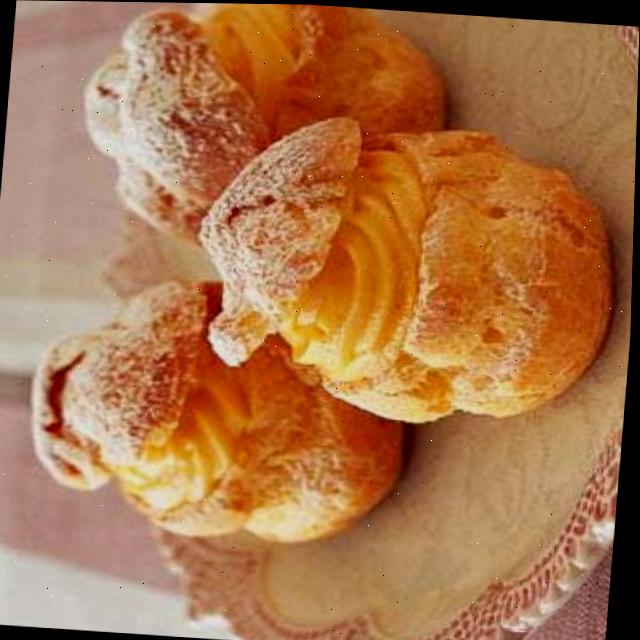炸货点心: (0, 0, 640, 638)
蛋糕甜品: (0, 0, 640, 638)
